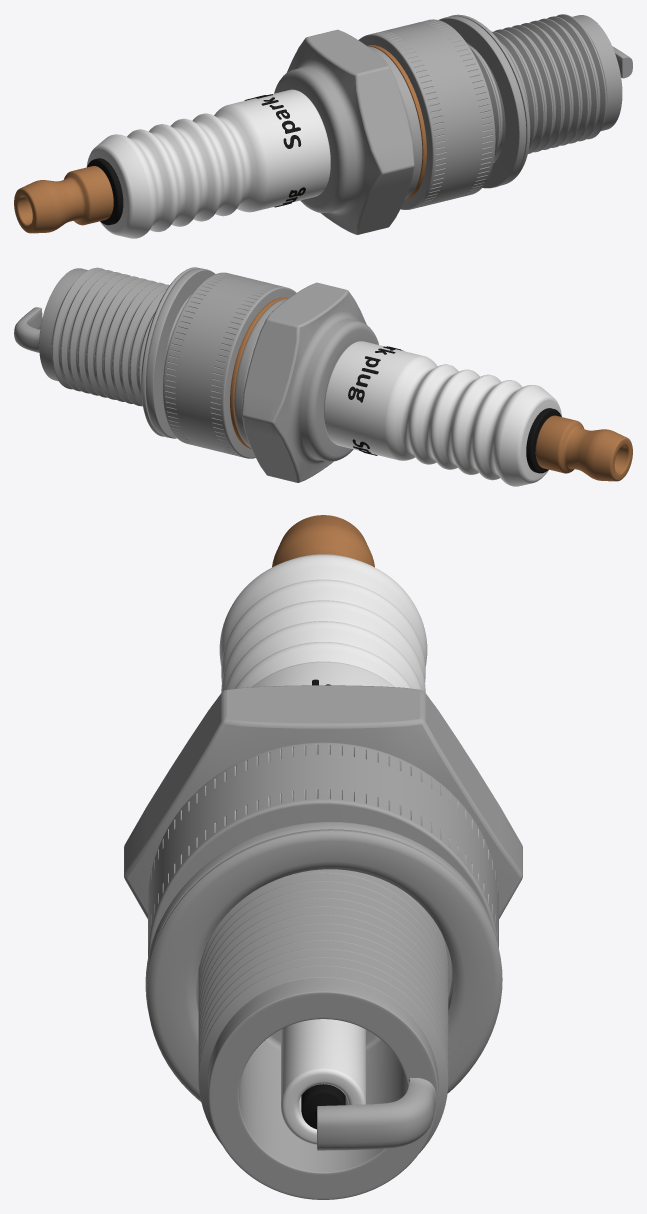
Rendered from candela.fbx.
3 views of the same model, one above another, from view 1: azimuth 30°, elevation 25°; view 2: azimuth 150°, elevation 25°; view 3: azimuth 270°, elevation 25° (orthographic). The views are drawn at different scales.
Parts seen in each view (by area): view 1: spark plug; view 2: spark plug; view 3: spark plug.
Part boxes in pixels (<box>): spark plug: <box>14,14,632,238</box>; spark plug: <box>14,267,632,486</box>; spark plug: <box>124,515,522,1199</box>.
Bounding box in the file's own units: 110 × 28.25 × 32.1.
